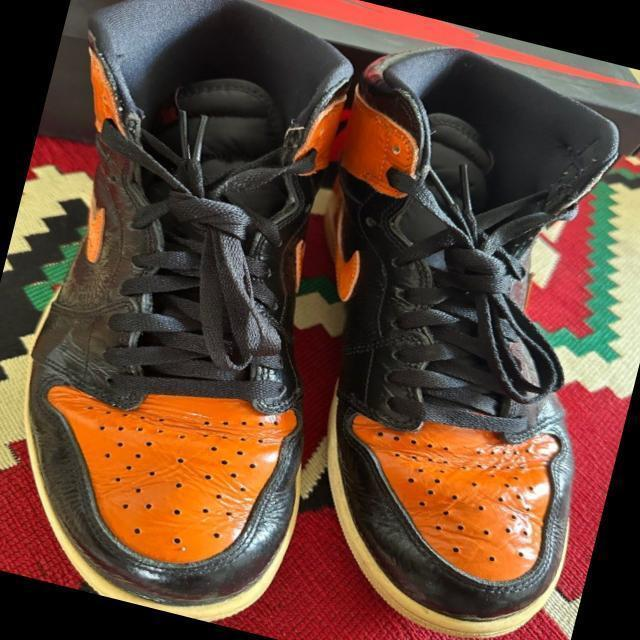nike original jordan 1: (193, 15, 640, 640), (0, 0, 416, 637)
